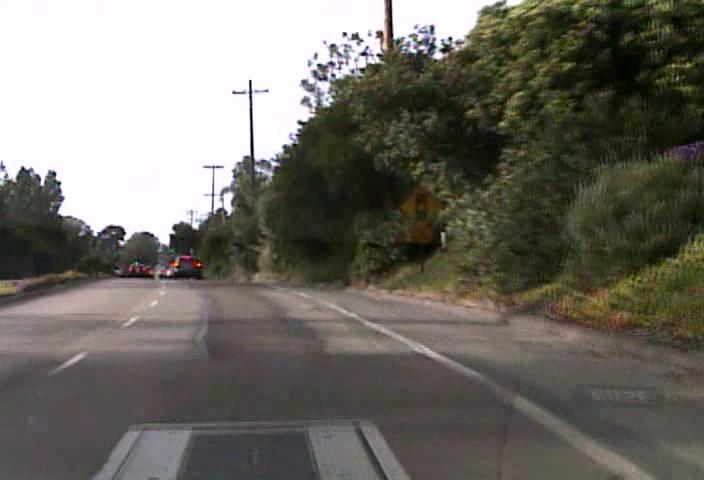signalAhead: (398, 183, 444, 228)
